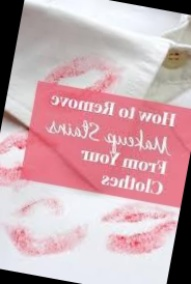lipstick: (0, 205, 92, 273), (97, 197, 177, 265), (41, 45, 112, 93), (8, 192, 72, 238), (79, 72, 121, 99), (0, 128, 29, 162), (0, 164, 18, 189)
